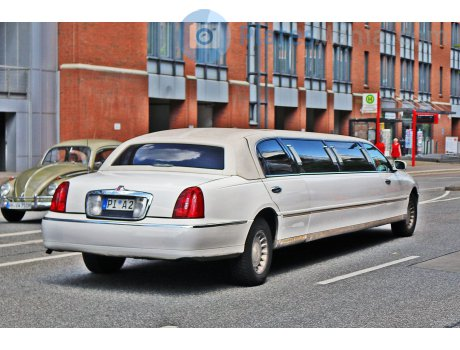License Plates: (106, 197, 135, 207)
